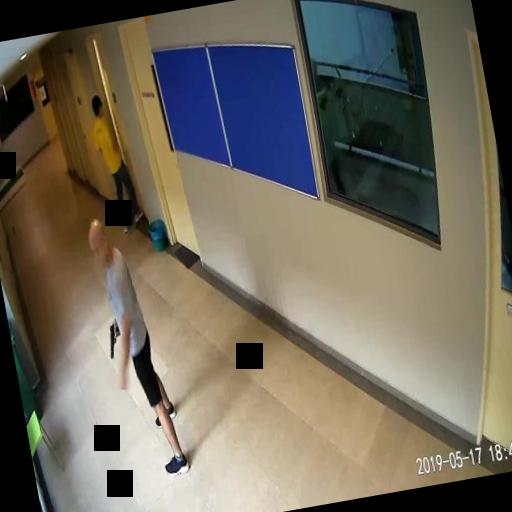Handgun: (102, 322, 122, 358)
